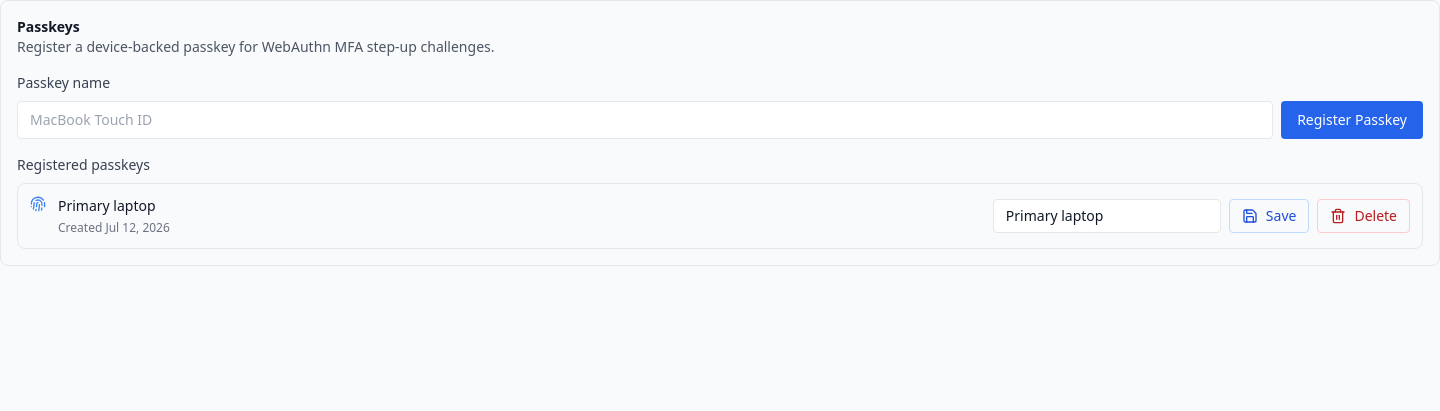
Test: Passkeys › adds another credential through enrollment and refreshes the list
The width and height of the screenshot is (1440, 411).
Expected: the text "Primary laptop" is shown, [58, 196, 170, 216]
Type "Backup key" into the field with test id "passkey-display-name-input". click: (645, 120)
box: [17, 101, 1273, 139]
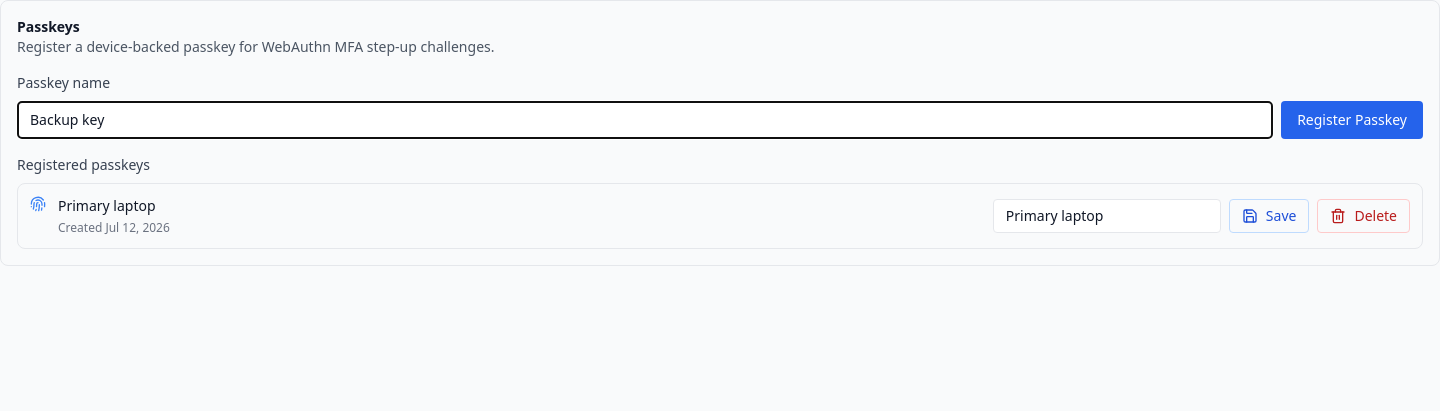
Click the button with test id "passkey-register-button". click: (1352, 120)
box: [1281, 101, 1423, 139]
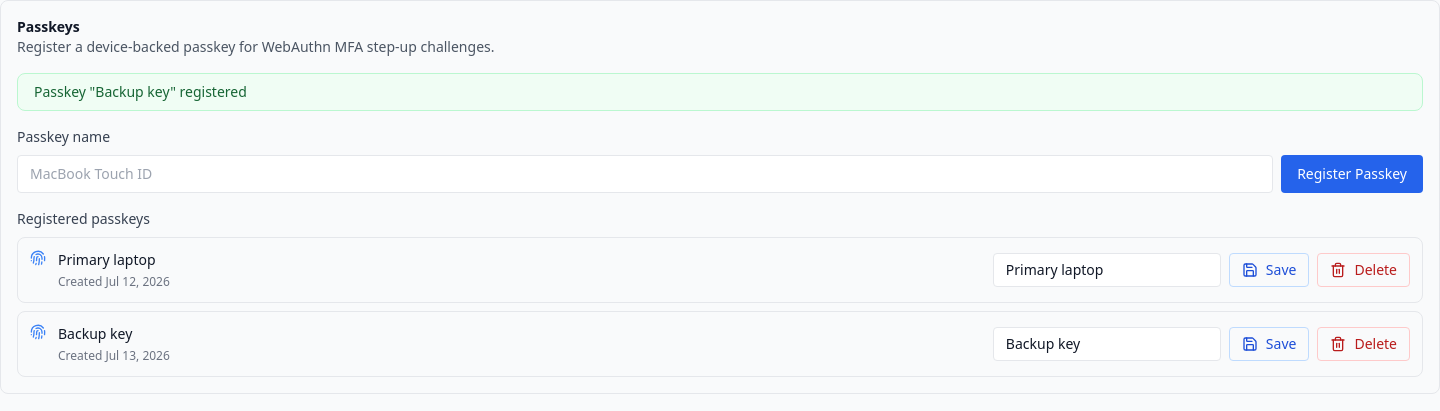
Expected: the text "Backup key" is shown, [58, 324, 132, 343]
